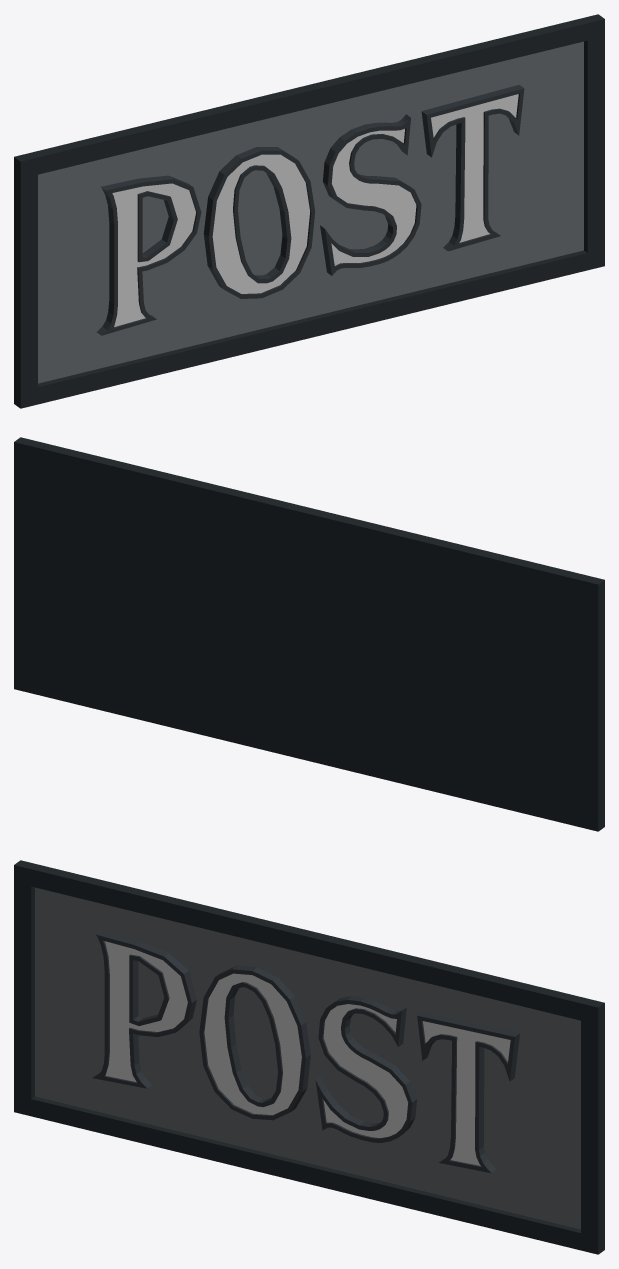
File: SM_BuildingsDecor_52.fbx
The picture shows the model from 3 angles, top to bottom: view 1: azimuth 30°, elevation 25°; view 2: azimuth 150°, elevation 25°; view 3: azimuth 330°, elevation 25°; orthographic projection.
Parts seen in each view (by area): view 1: SM_BuildingsDecor_52; view 2: SM_BuildingsDecor_52; view 3: SM_BuildingsDecor_52.
Part boxes in pixels (x1,y1,x2,y2): SM_BuildingsDecor_52: (14,14,604,408); SM_BuildingsDecor_52: (14,437,604,831); SM_BuildingsDecor_52: (14,860,604,1254).
Bounding box in the file's own units: 1.33 × 0.5387 × 0.0316.
